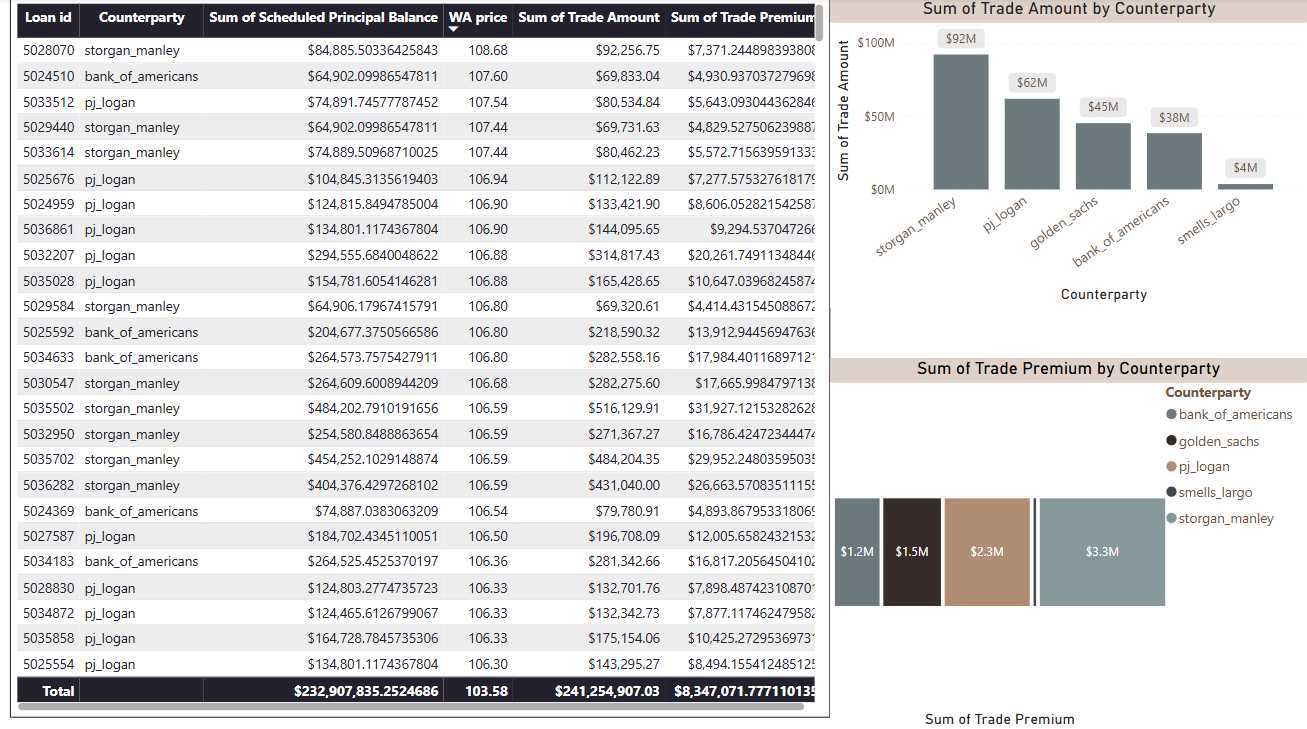

What the dashboard file says about the page in this screenshot:
{"tool":"powerbi","page":{"name":"Trade Execution","canvas":[1280,720],"ordinal":3},"visuals":[{"type":"tableEx","fields":{"Values":["loan_data.loan_id","loan_data.Counterparty","Sum(loan_balance.Scheduled Principal Balance)","loan_data.WA price","Sum(loan_data.Trade Amount)","Sum(loan_data.Trade Premium)"]},"box":[10.3,0,802.3,704.1],"z":0},{"type":"clusteredColumnChart","fields":{"Category":["loan_data.Counterparty"],"Y":["Sum(loan_data.Trade Amount)"]},"box":[812,0,468.3,303.3],"z":1000},{"type":"barChart","fields":{"Y":["Sum(loan_data.Trade Premium)"],"Series":["loan_data.Counterparty"]},"box":[812,352.2,467.1,366.8],"z":2000}]}

Visuals, with their boxes in screenshot pixels (x1, y1, x2, y2), scaled from the page's 1280x720 canvas onto the 1307x729 screenshot:
tableEx - loan_data.loan_id x loan_data.Counterparty: <bbox>11, 0, 830, 713</bbox>
clusteredColumnChart - loan_data.Counterparty x Sum(loan_data.Trade Amount): <bbox>829, 0, 1306, 307</bbox>
barChart - Sum(loan_data.Trade Premium) x loan_data.Counterparty: <bbox>829, 357, 1306, 728</bbox>
